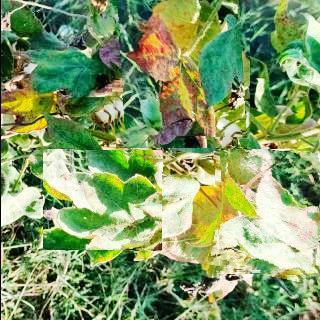blight: (104, 0, 249, 138), (212, 149, 320, 277)
curl: (42, 150, 161, 250)
